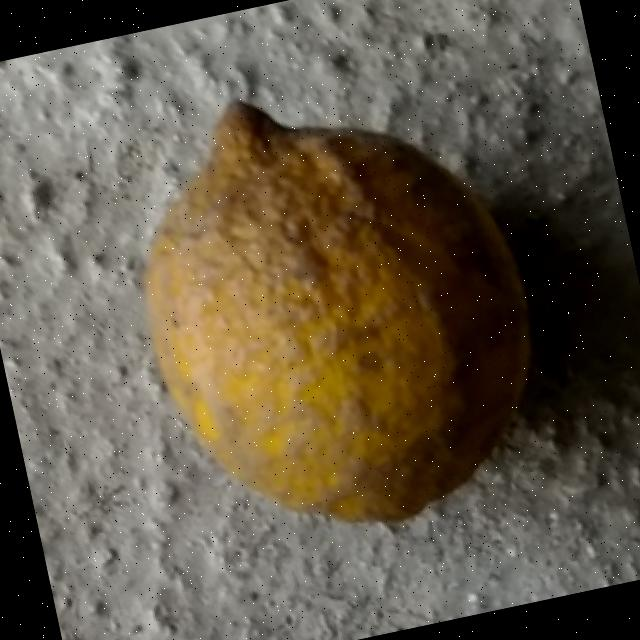overripe: (96, 40, 575, 572)
